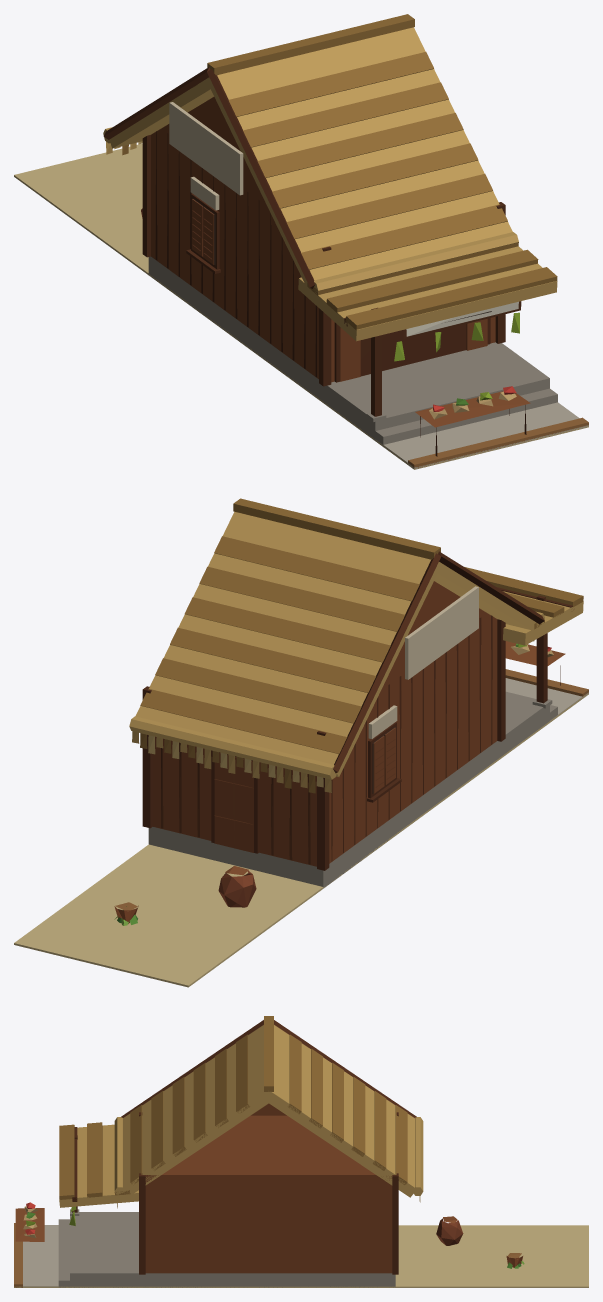
The model's file is bay1_left.glb.
3 views of the same model, one above another, from view 1: azimuth 30°, elevation 25°; view 2: azimuth 150°, elevation 25°; view 3: azimuth 270°, elevation 25° (orthographic). The views are drawn at different scales.
Visible parts, largest first — view 1: body; view 2: body; view 3: body.
Boxes of the visible parts, <box> form: body: <box>14,14,588,469</box>; body: <box>14,498,588,987</box>; body: <box>14,1016,588,1287</box>.
Bounding box in the file's own units: 4.83 × 6.44 × 15.9.
